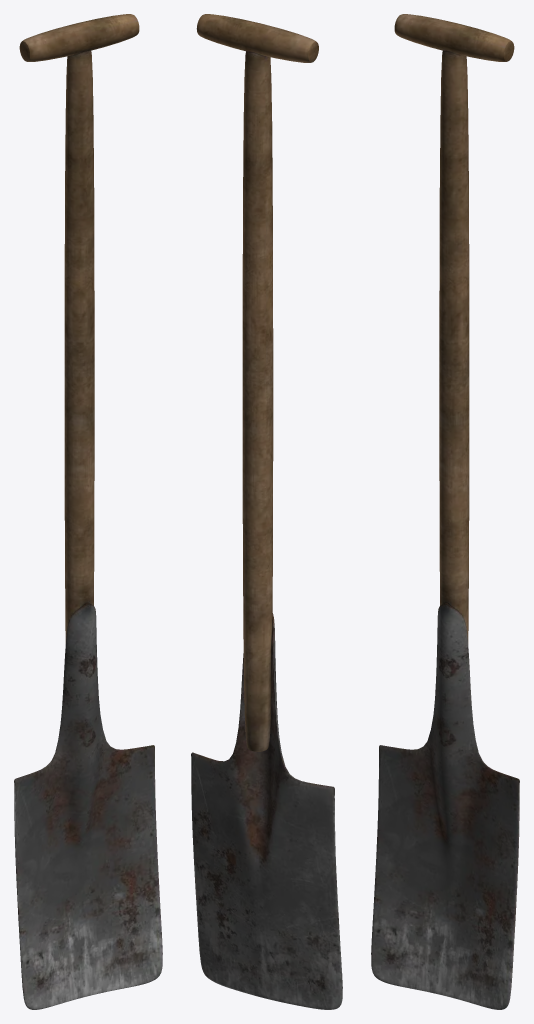
The model's file is rusted_spade_01.glb.
The picture shows the model from 3 angles, left to right: view 1: azimuth 30°, elevation 25°; view 2: azimuth 150°, elevation 25°; view 3: azimuth 330°, elevation 25°; orthographic projection. The views are drawn at different scales.
Parts seen in each view (by area): view 1: rusted_spade_01; view 2: rusted_spade_01; view 3: rusted_spade_01.
Part boxes in pixels (x1=…): rusted_spade_01: x1=14, y1=14, x2=162, y2=1009; rusted_spade_01: x1=191, y1=14, x2=342, y2=1009; rusted_spade_01: x1=371, y1=14, x2=519, y2=1009.
Size of the model in its own units: 0.1681 by 1.1 by 0.0456.
Materials: 1 (1 with a texture image).
